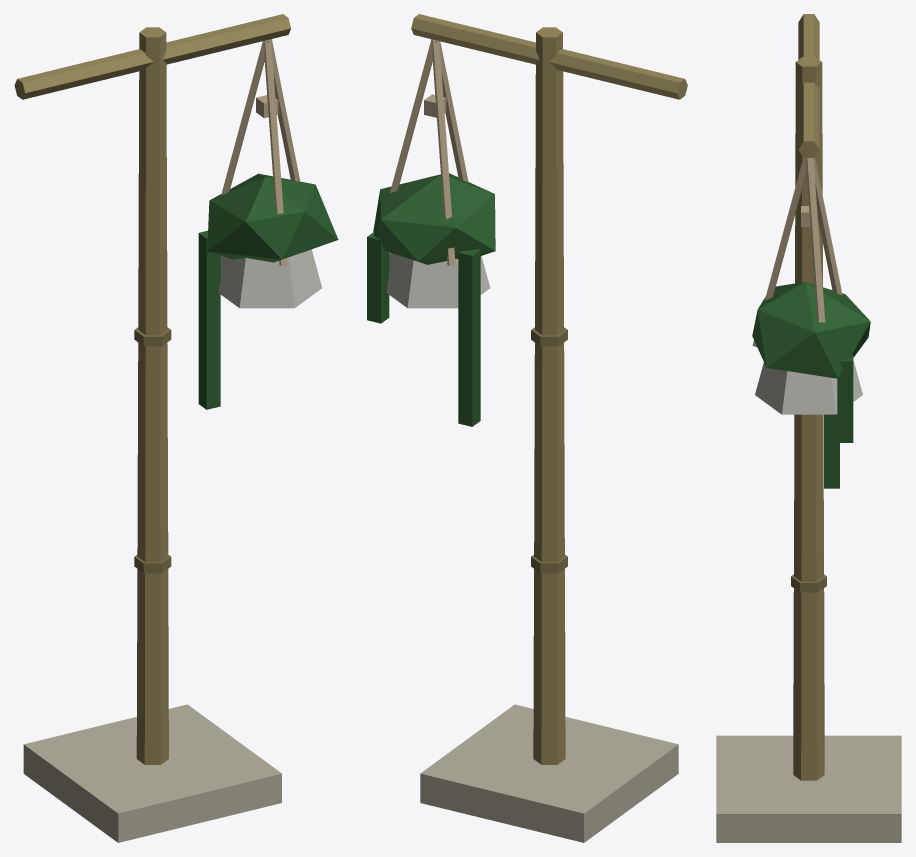
File: plant-hanger-47.glb
3 renders of one model, left to right at view 1: azimuth 30°, elevation 25°; view 2: azimuth 150°, elevation 25°; view 3: azimuth 270°, elevation 25°, orthographic.
Parts seen in each view (by area): view 1: plant_hanger_47; view 2: plant_hanger_47; view 3: plant_hanger_47.
Part boxes in pixels (<box>): plant_hanger_47: <box>14,14,338,842</box>; plant_hanger_47: <box>367,14,687,842</box>; plant_hanger_47: <box>716,14,901,842</box>.
Size of the model in its own units: 0.6386 by 1.54 by 0.3499.
